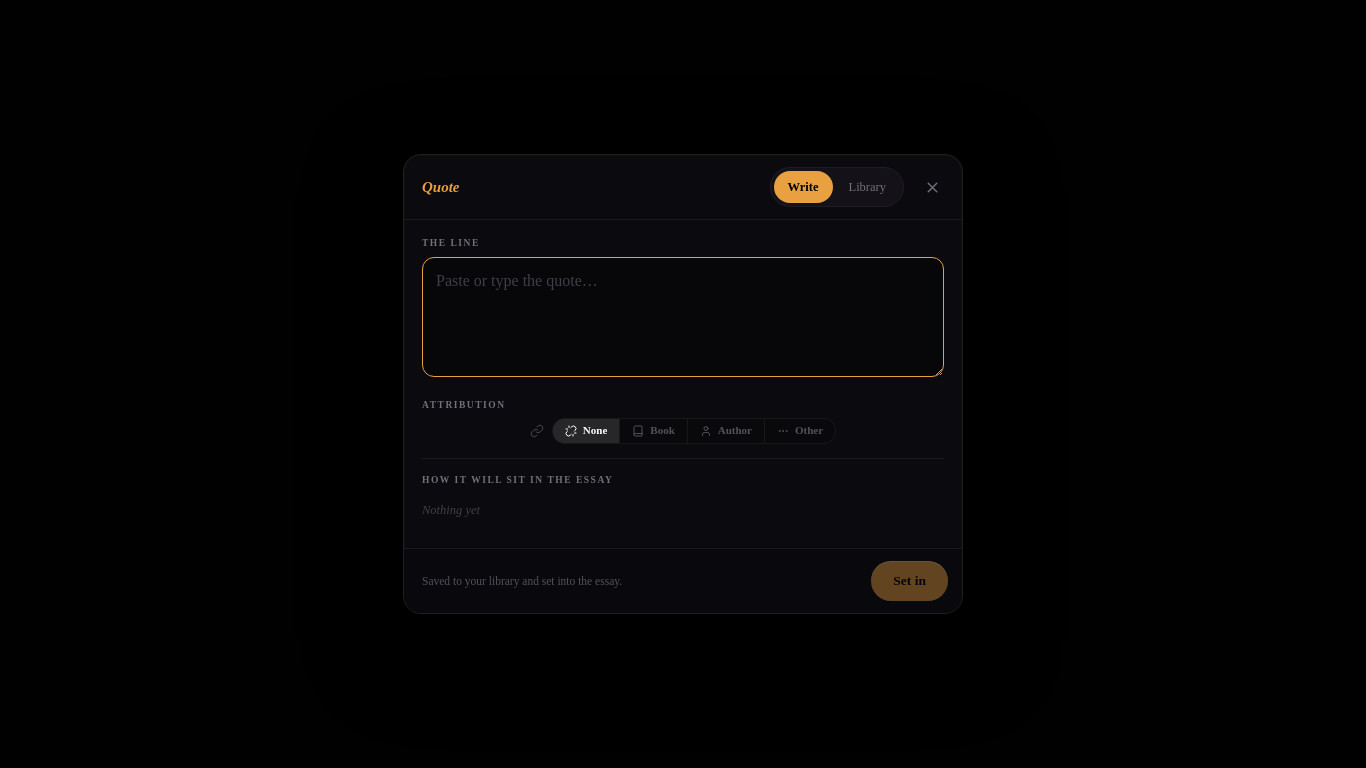
Test: EssayQuoteModal — the library › offers to write what you searched for when nothing matches
The width and height of the screenshot is (1366, 768).
Click the tab "Library": (867, 187) [834, 171, 900, 203]
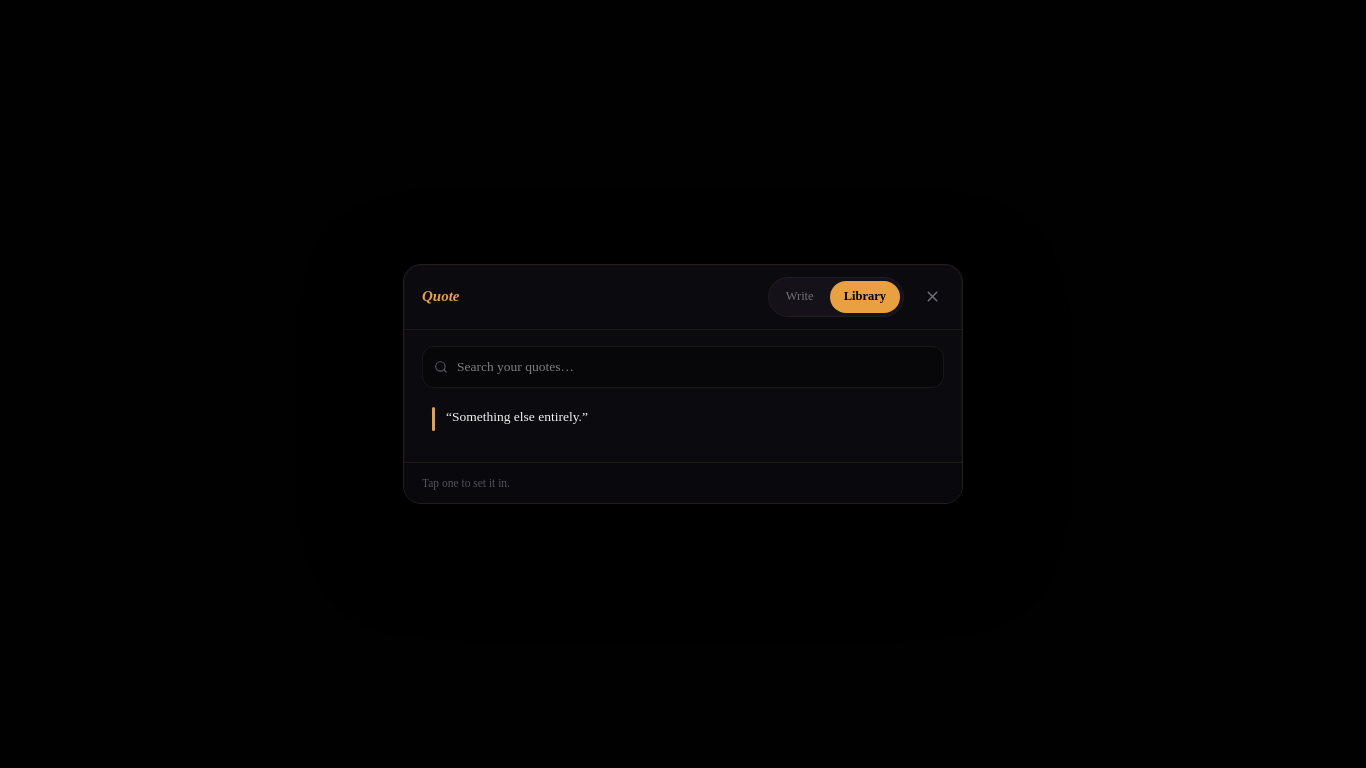
In the field with placeholder "Search your quotes…": (683, 367) [422, 346, 944, 388], type "a line nobody has written"
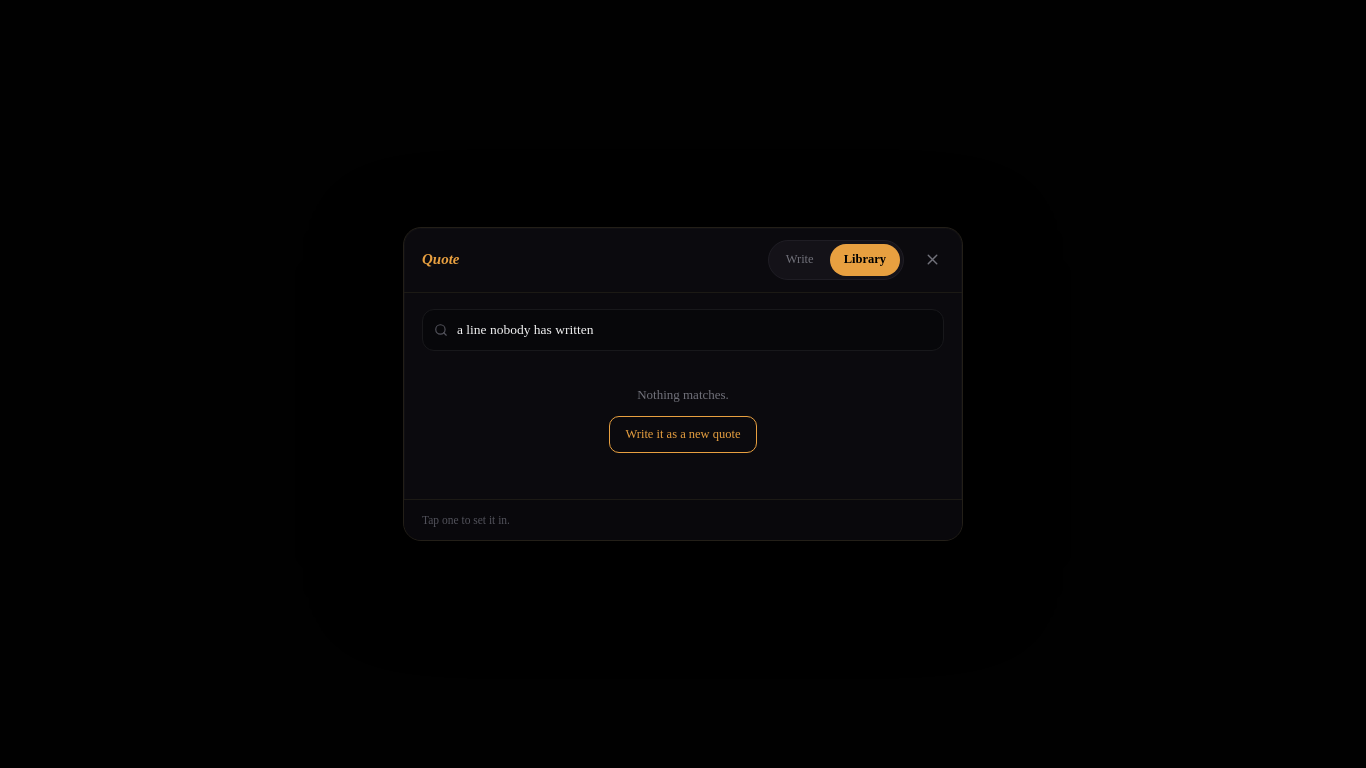
Click the button "Write it as a new quote": (683, 435) [610, 416, 757, 453]
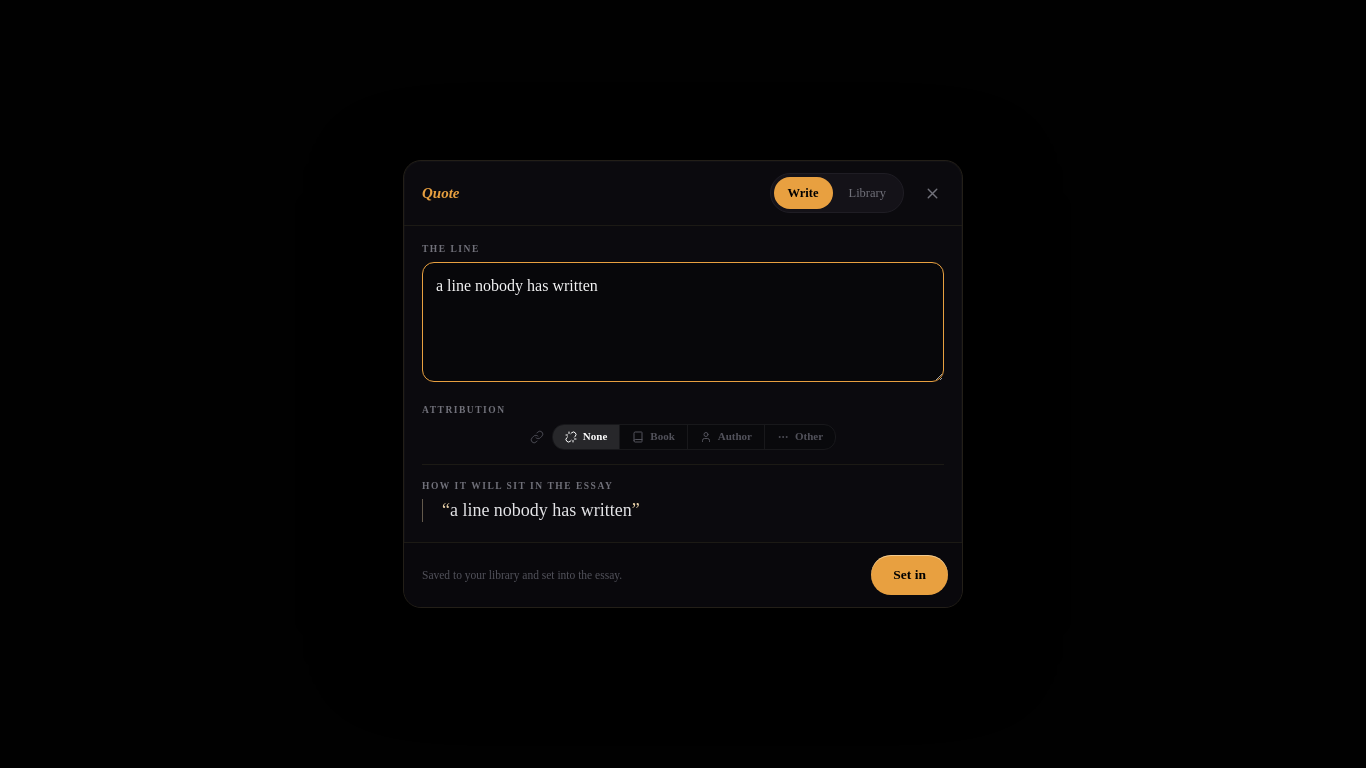
expect the text box labelled "The line" holds "a line nobody has written": met, box [422, 262, 944, 382]
